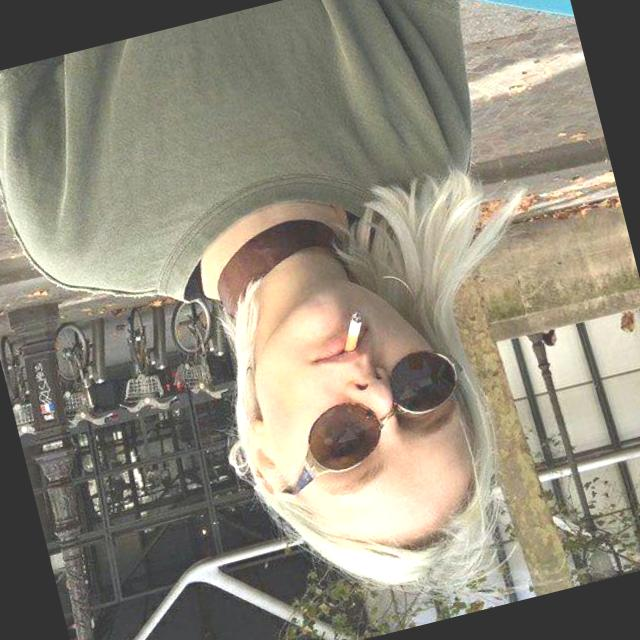smoke: (330, 305, 372, 358)
